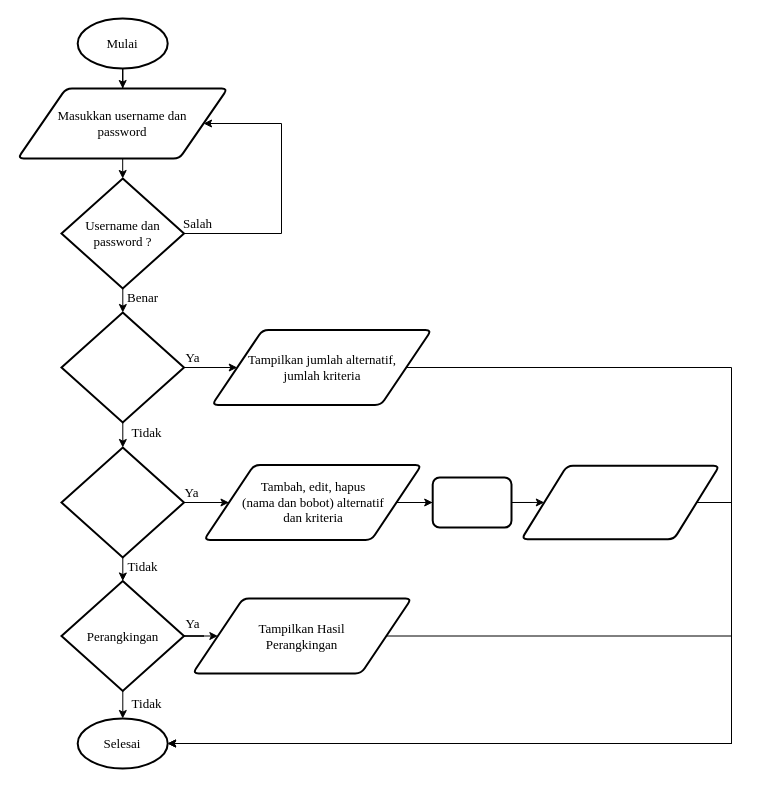
The diagram is 758 pixels wide and 786 high, and some of its shapes have lost their labels. Each missing label, with the centre of its shape:
Alternatif dan Kriteria: the point at 122,502
CRUD: the point at 471,502
Dashboard: the point at 122,367
Tampilkan Alternatif dan Kriteria: the point at 620,502
